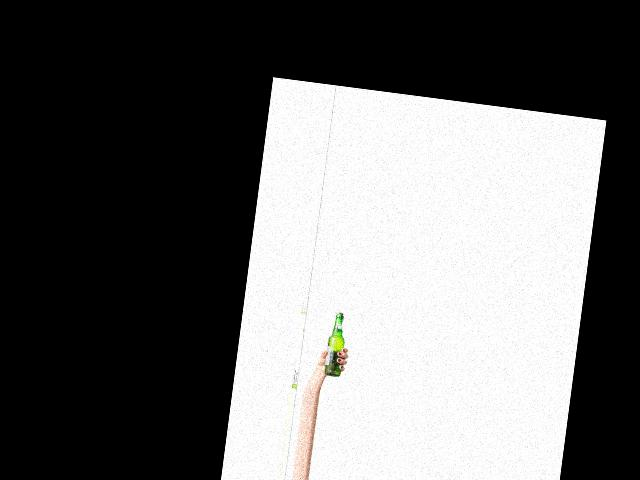beer: (322, 311, 347, 377)
